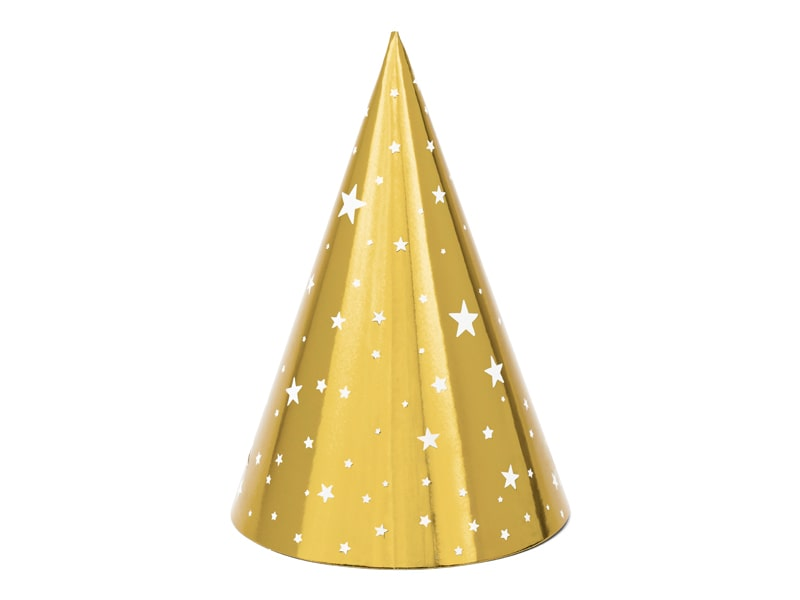cone: (231, 32, 571, 570)
